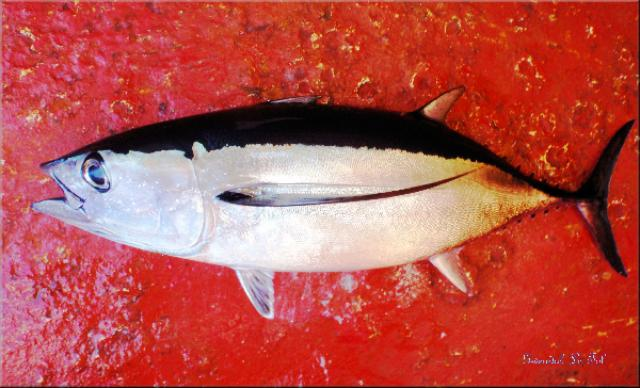Mulut: (10, 132, 100, 240)
Sirip Anal: (415, 231, 497, 316)
Sirip Dada: (200, 158, 500, 228)
Sirip Ekor: (540, 110, 640, 284)
Sirip Perut: (207, 248, 303, 330)
Sirip Punggung: (244, 68, 478, 150)
